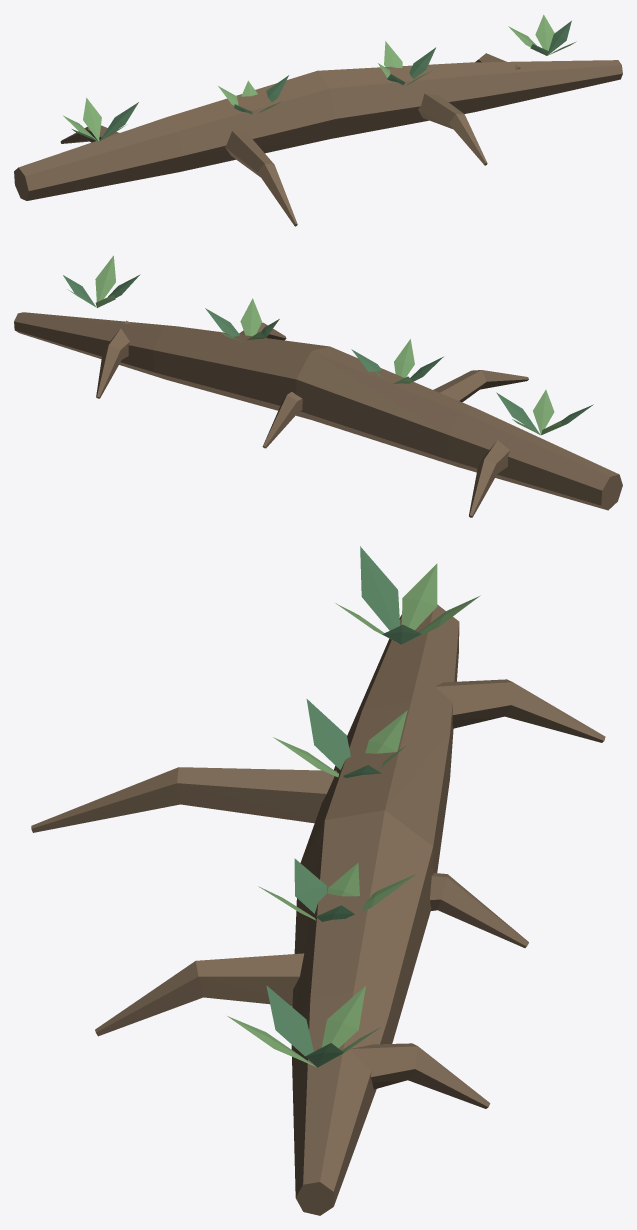
3 views of the same model, one above another, from view 1: azimuth 30°, elevation 25°; view 2: azimuth 150°, elevation 25°; view 3: azimuth 270°, elevation 25° (orthographic). The views are drawn at different scales.
Visible parts, largest first — view 1: Wildwuchs_bark_nocol, Wildwuchs_green_nocol, Wildwuchs_deep_nocol; view 2: Wildwuchs_bark_nocol, Wildwuchs_green_nocol, Wildwuchs_deep_nocol; view 3: Wildwuchs_bark_nocol, Wildwuchs_deep_nocol, Wildwuchs_green_nocol.
Part boxes in pixels (x1,y1,x2,y2): Wildwuchs_bark_nocol: (14, 53, 622, 226); Wildwuchs_green_nocol: (63, 14, 576, 141); Wildwuchs_deep_nocol: (72, 20, 571, 141); Wildwuchs_bark_nocol: (14, 312, 622, 517); Wildwuchs_green_nocol: (67, 255, 561, 435); Wildwuchs_deep_nocol: (63, 274, 593, 434); Wildwuchs_bark_nocol: (31, 604, 605, 1215); Wildwuchs_deep_nocol: (266, 546, 421, 1067); Wildwuchs_green_nocol: (227, 563, 480, 1067).
Bounding box in the file's own units: 5.93 × 0.7526 × 2.58.
